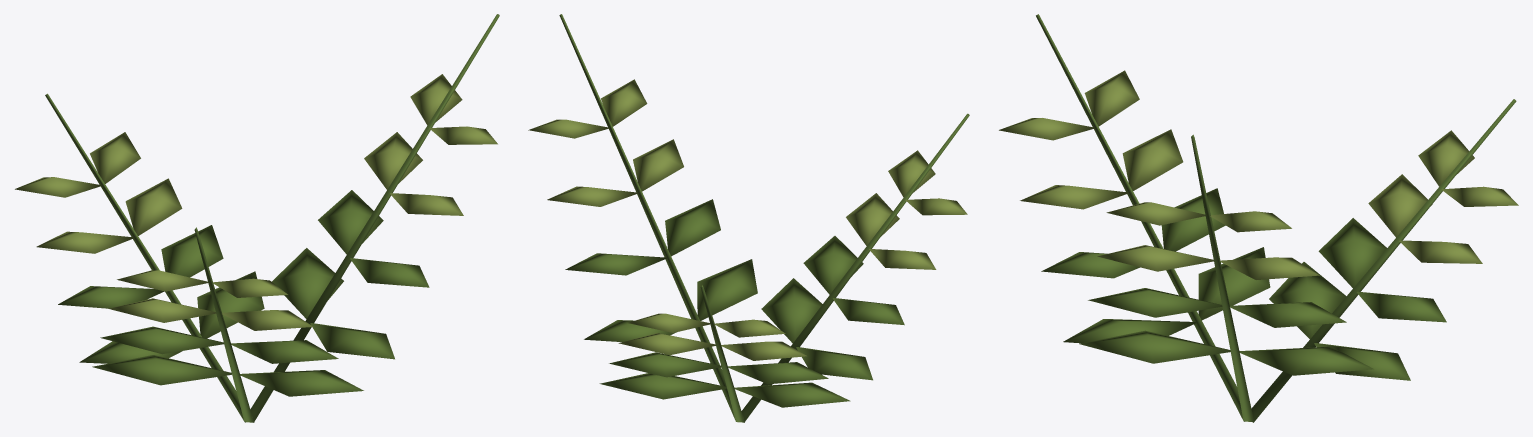
Rendered from wild_fern.glb.
3 renders of one model, left to right at view 1: azimuth 30°, elevation 25°; view 2: azimuth 150°, elevation 25°; view 3: azimuth 270°, elevation 25°, orthographic. The views are drawn at different scales.
Parts seen in each view (by area): view 1: wild_fern; view 2: wild_fern; view 3: wild_fern.
Boxes of the visible parts, x1,y1,x2,y2 form: wild_fern: (15, 14, 499, 422); wild_fern: (528, 14, 969, 422); wild_fern: (999, 14, 1518, 422).
Bounding box in the file's own units: 0.4927 × 0.4231 × 0.4947.
